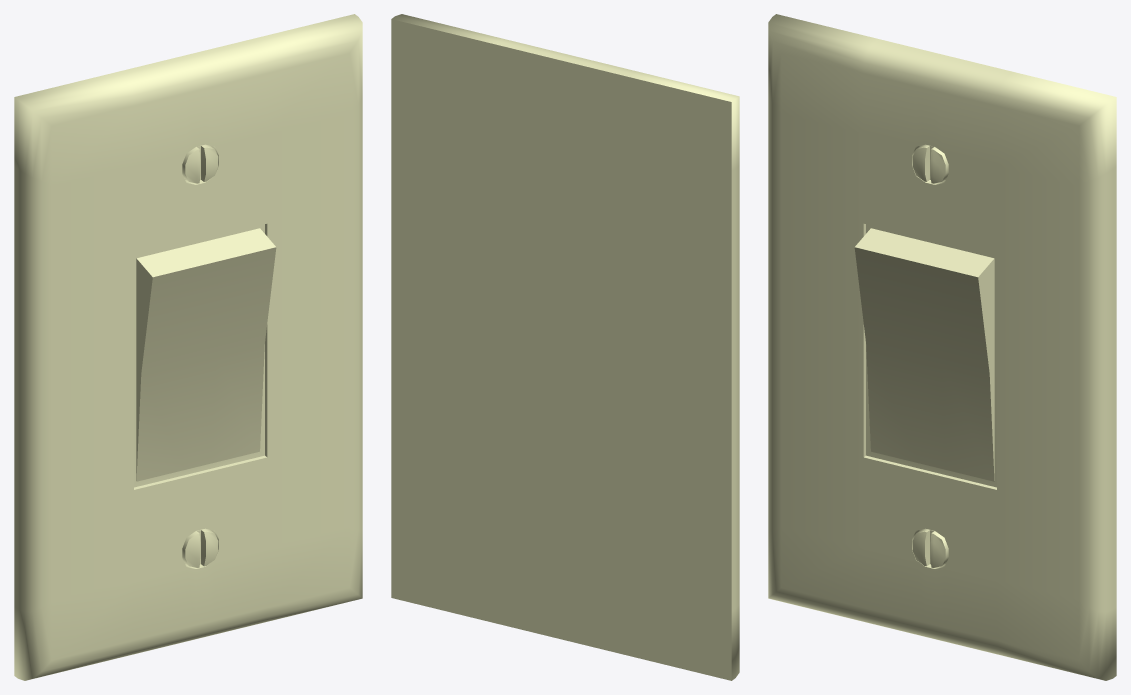
File: LightSwitch.FBX
The picture shows the model from 3 angles, left to right: view 1: azimuth 30°, elevation 25°; view 2: azimuth 150°, elevation 25°; view 3: azimuth 330°, elevation 25°; orthographic projection.
Parts seen in each view (by area): view 1: Light_Switch; view 2: Light_Switch; view 3: Light_Switch.
Boxes of the visible parts, x1,y1,x2,y2 form: Light_Switch: (14, 14, 362, 680); Light_Switch: (391, 14, 739, 680); Light_Switch: (768, 14, 1116, 680).
Bounding box in the file's own units: 6.65 × 10.8 × 1.02.
